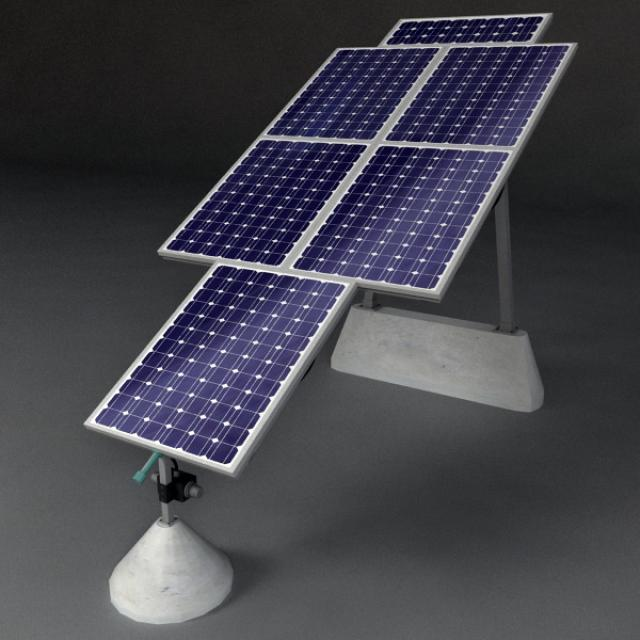clean-solar-panel: (86, 15, 576, 475)
